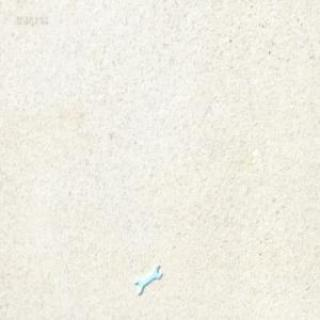Wrenchtrack_idkeyframe: (134, 262, 160, 293)
